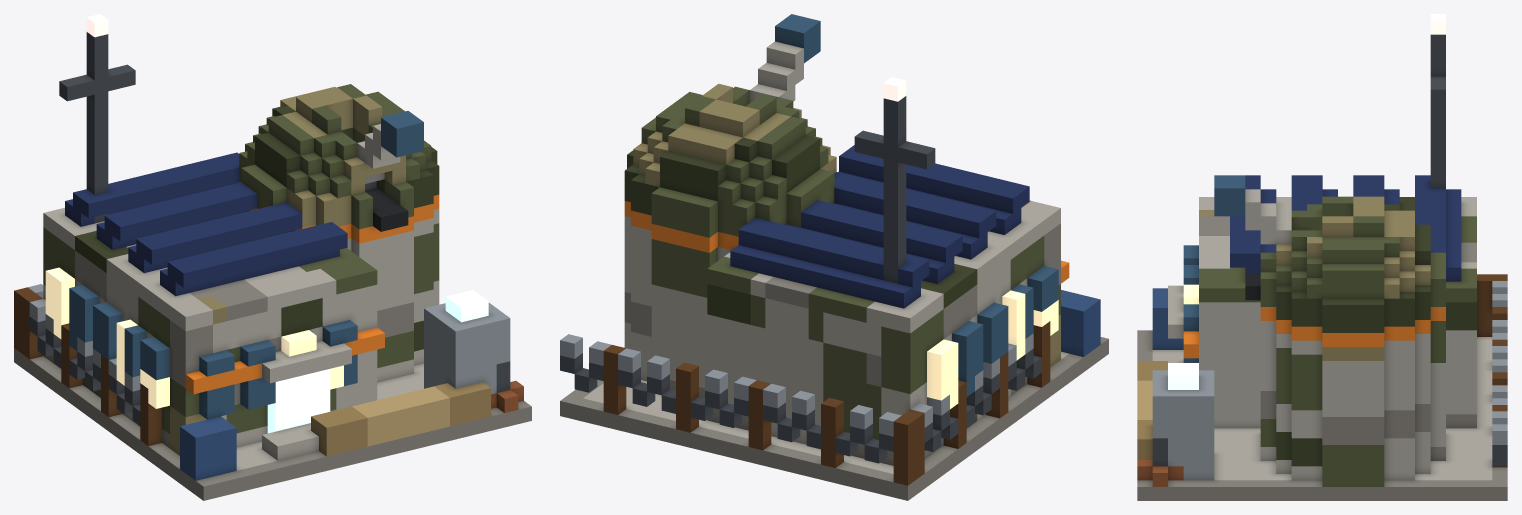
Rendered from cm_lab_5.glb.
3 renders of one model, left to right at view 1: azimuth 30°, elevation 25°; view 2: azimuth 150°, elevation 25°; view 3: azimuth 270°, elevation 25°, orthographic. The views are drawn at different scales.
Parts seen in each view (by area): view 1: cm_lab_5_body; view 2: cm_lab_5_body; view 3: cm_lab_5_body.
Boxes of the visible parts, x1,y1,x2,y2 form: cm_lab_5_body: (14,14,531,500); cm_lab_5_body: (560,14,1108,500); cm_lab_5_body: (1137,14,1507,500).
Size of the model in its own units: 1.5 by 1.56 by 1.5.
Materials: 1 (1 with a texture image).
